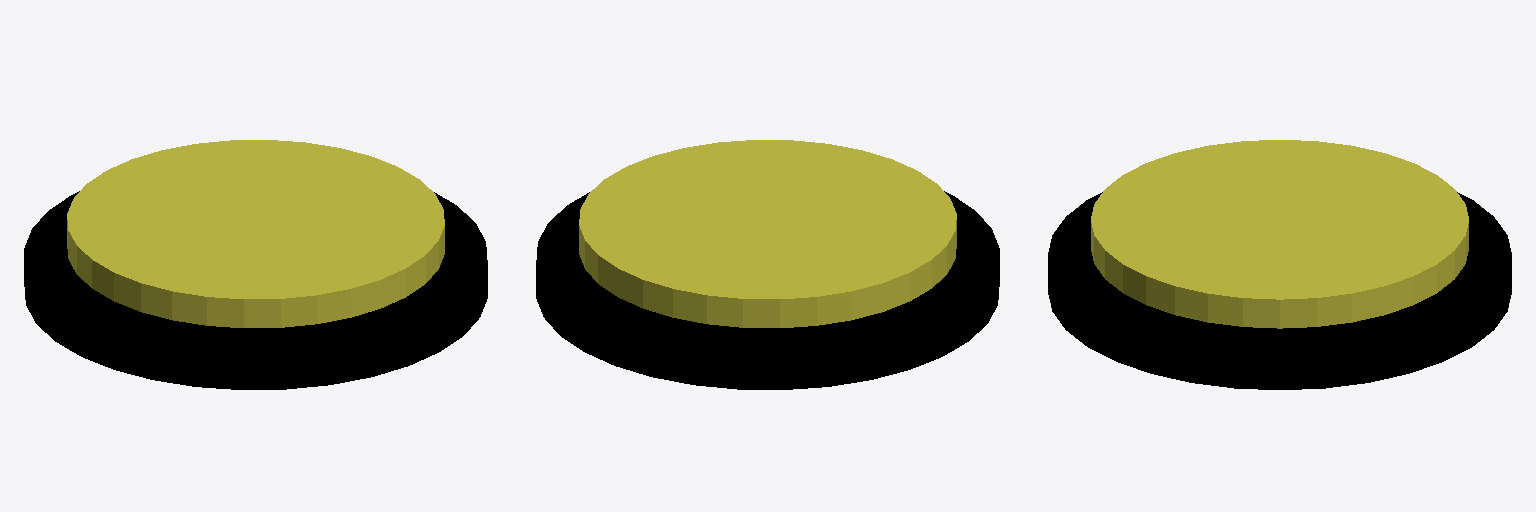
File: SwapButton.obj
The picture shows the model from 3 angles: view 1: azimuth 30°, elevation 25°; view 2: azimuth 150°, elevation 25°; view 3: azimuth 270°, elevation 25°; orthographic projection.
Visible parts, largest first — view 1: Cylinder; view 2: Cylinder; view 3: Cylinder.
Boxes of the visible parts, x1=… form: Cylinder: x1=24, y1=140, x2=487, y2=389; Cylinder: x1=536, y1=140, x2=999, y2=389; Cylinder: x1=1048, y1=140, x2=1511, y2=389.
Size of the model in its own units: 3 by 0.5183 by 3.